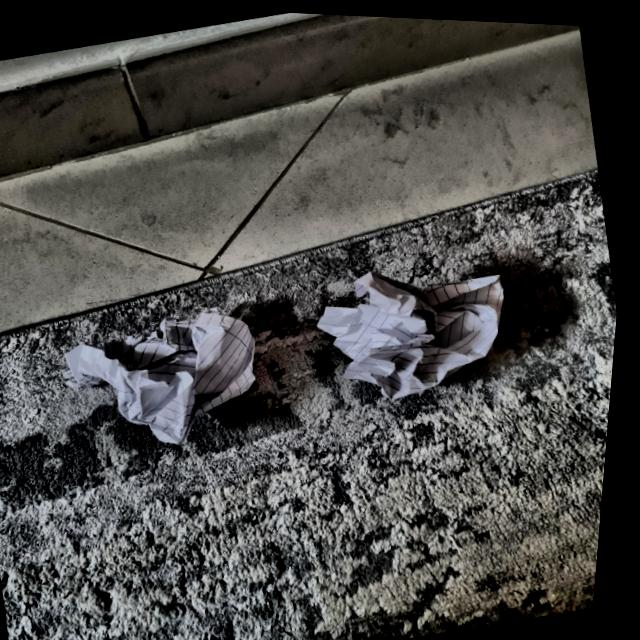Paper: (60, 288, 286, 469), (309, 239, 529, 412)
